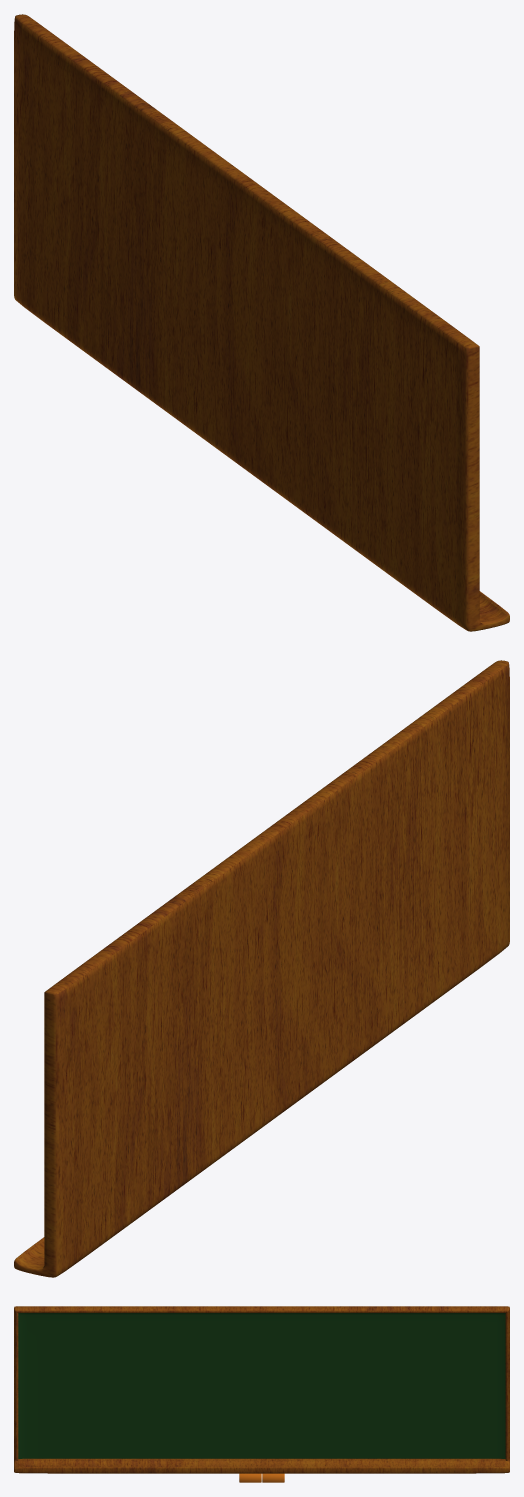
Rendered from Blackboard.fbx.
The picture shows the model from 3 angles, top to bottom: view 1: azimuth 30°, elevation 25°; view 2: azimuth 150°, elevation 25°; view 3: azimuth 270°, elevation 25°; orthographic projection. The views are drawn at different scales.
Parts seen in each view (by area): view 1: blackboard; view 2: blackboard; view 3: blackboard, chalk case.002, chalk case.001.
Boxes of the visible parts, left/top/right/bottom form: blackboard: left=14, top=14, right=509, bottom=631; blackboard: left=14, top=660, right=509, bottom=1277; blackboard: left=14, top=1306, right=509, bottom=1473; chalk case.002: left=239, top=1473, right=261, bottom=1482; chalk case.001: left=262, top=1473, right=284, bottom=1482.
Size of the model in its own units: 20.61 by 133 by 360.
Materials: 3 (1 with a texture image).
